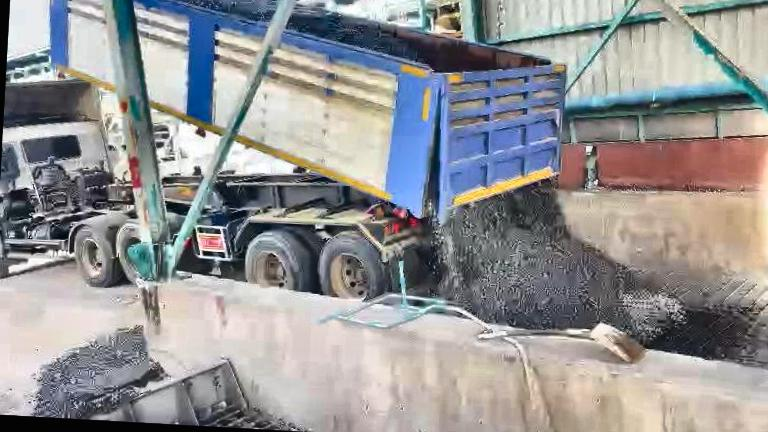gravel: (435, 181, 678, 341), (34, 326, 151, 419), (288, 5, 422, 62), (163, 0, 277, 22)
